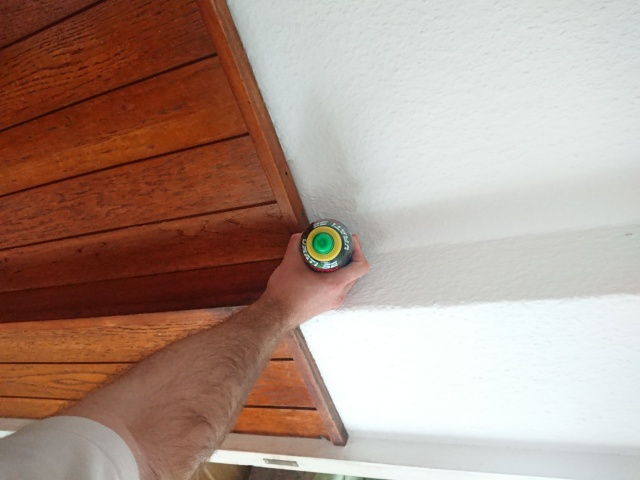Vindi Iso Sport Forest Strawberries 500mL: (298, 216, 354, 275)
